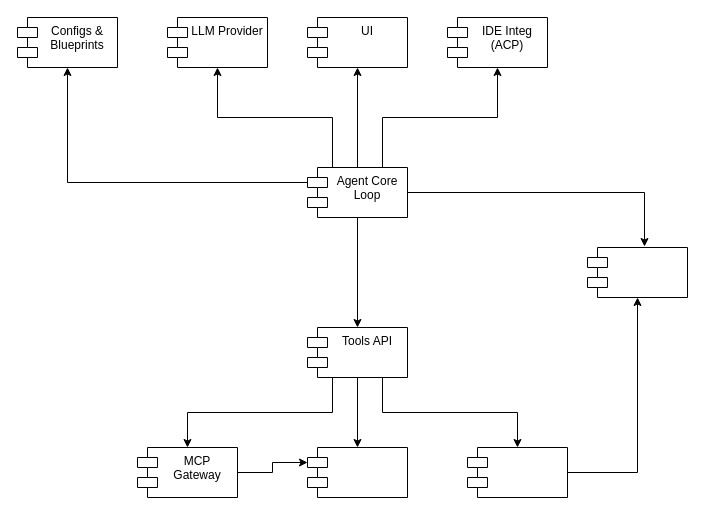
Some shapes in this 705 by 515 pixel diagram are drawn without their labels. The centre of each missing label's shape, as x and y in pixels:
"File Ops" goes at (517,472).
"Runtime Sandbox" goes at (357,472).
"Versioning & Checkpointing" goes at (637,272).
